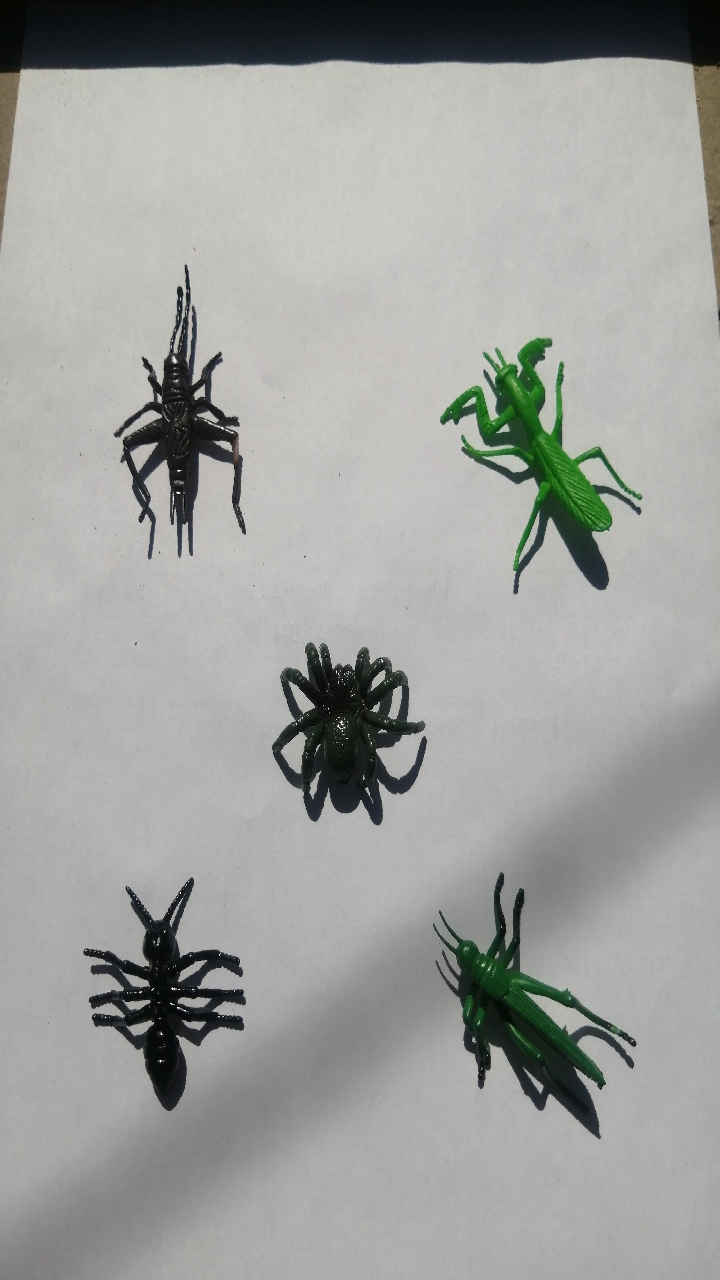intruso: (423, 292, 660, 622), (401, 831, 638, 1145), (57, 845, 271, 1128), (243, 597, 463, 872), (92, 248, 269, 552)
